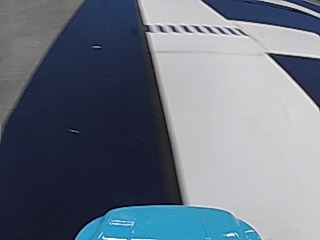CrossWalk: (152, 23, 240, 35)
